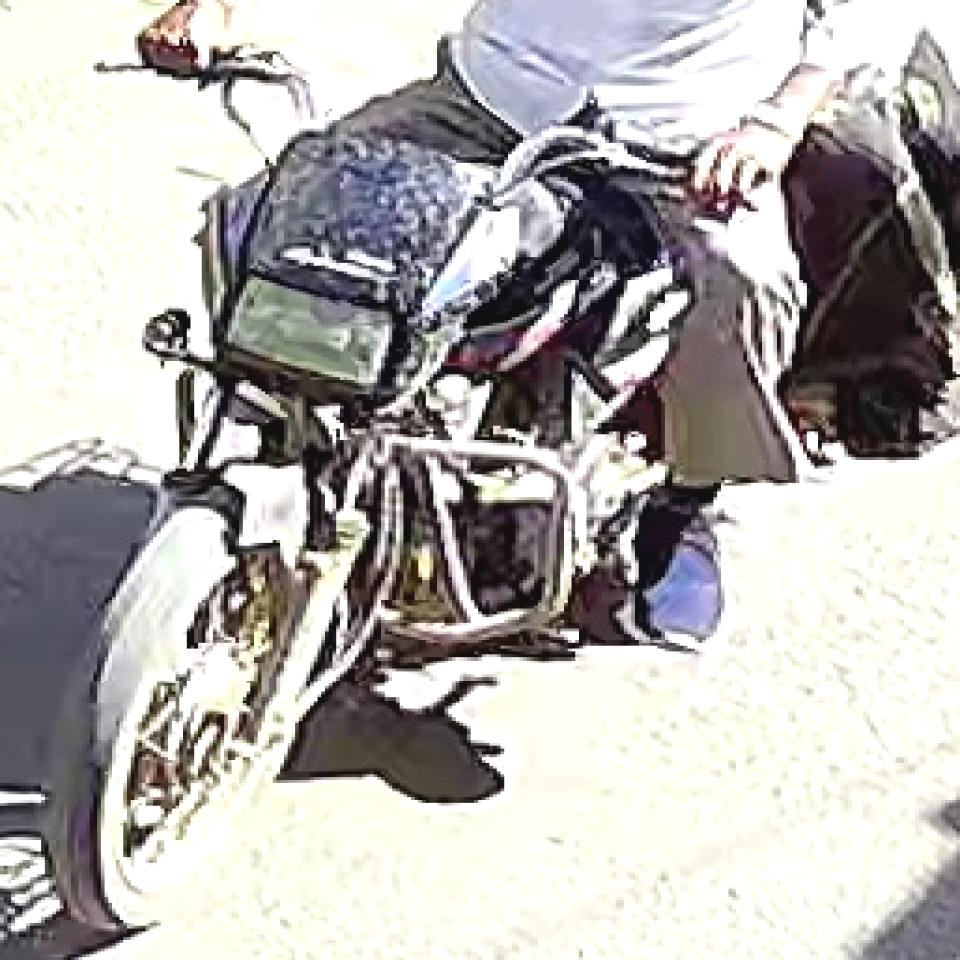head_light: (222, 282, 395, 389)
